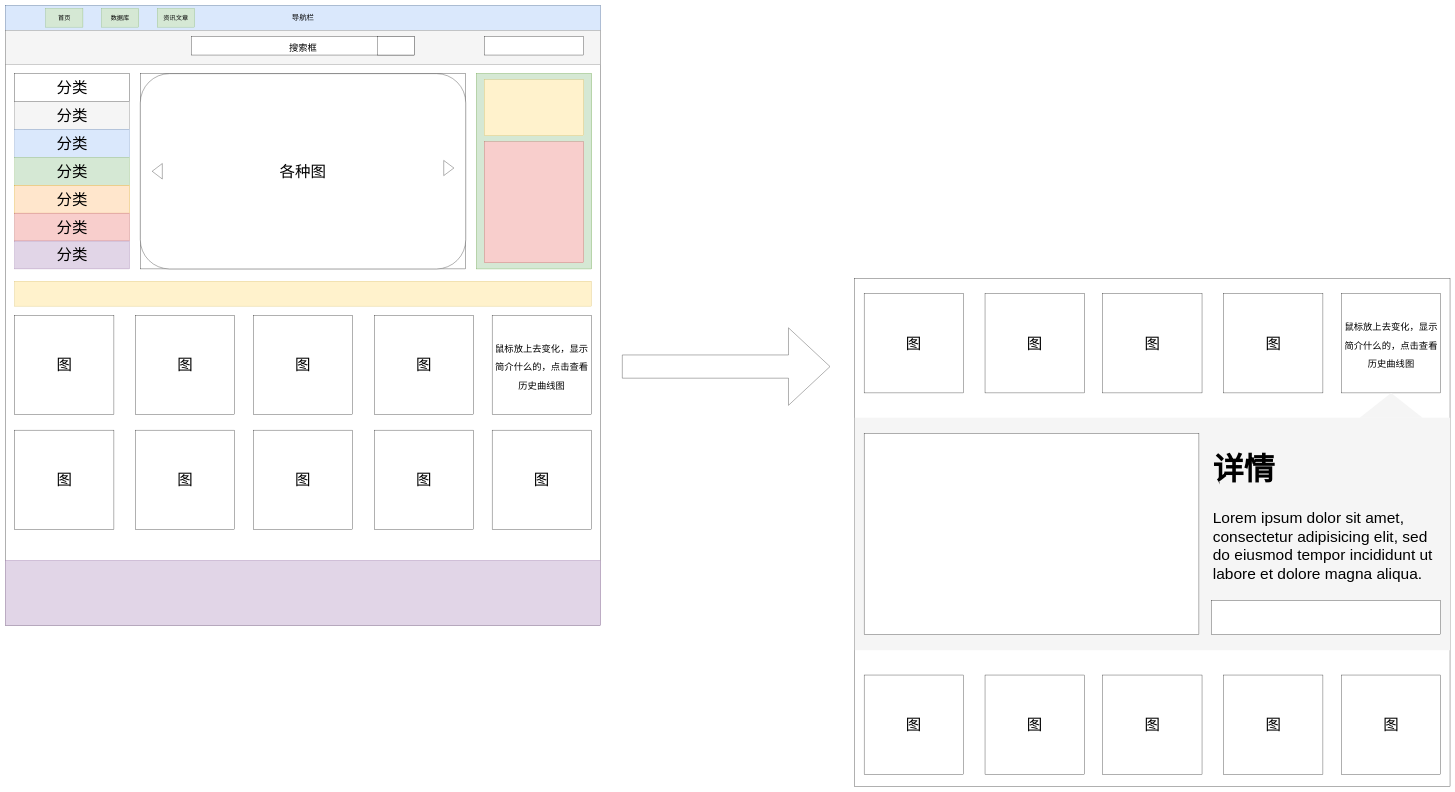
This 1455x792 diagram has some shape labels left out. Each missing label, with the centre of its shape:
"footer" goes at (x=303, y=592).
"一些功能按钮" goes at (x=1326, y=617).
"动态" goes at (x=534, y=202).
"大图 折线图 多角度图" goes at (x=1031, y=534).
"按钮" goes at (x=396, y=45).
"收藏夹" goes at (x=534, y=45).
"点击效果" goes at (x=726, y=366).
"筛选条件之类的" goes at (x=302, y=293).
"账号" goes at (x=534, y=108).
